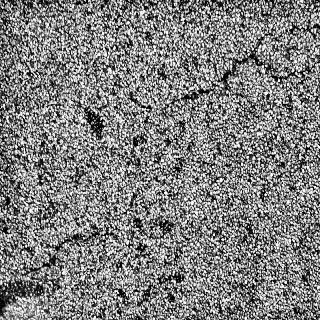crack: (147, 47, 269, 109), (11, 228, 108, 283), (246, 18, 320, 82), (114, 185, 150, 222)
